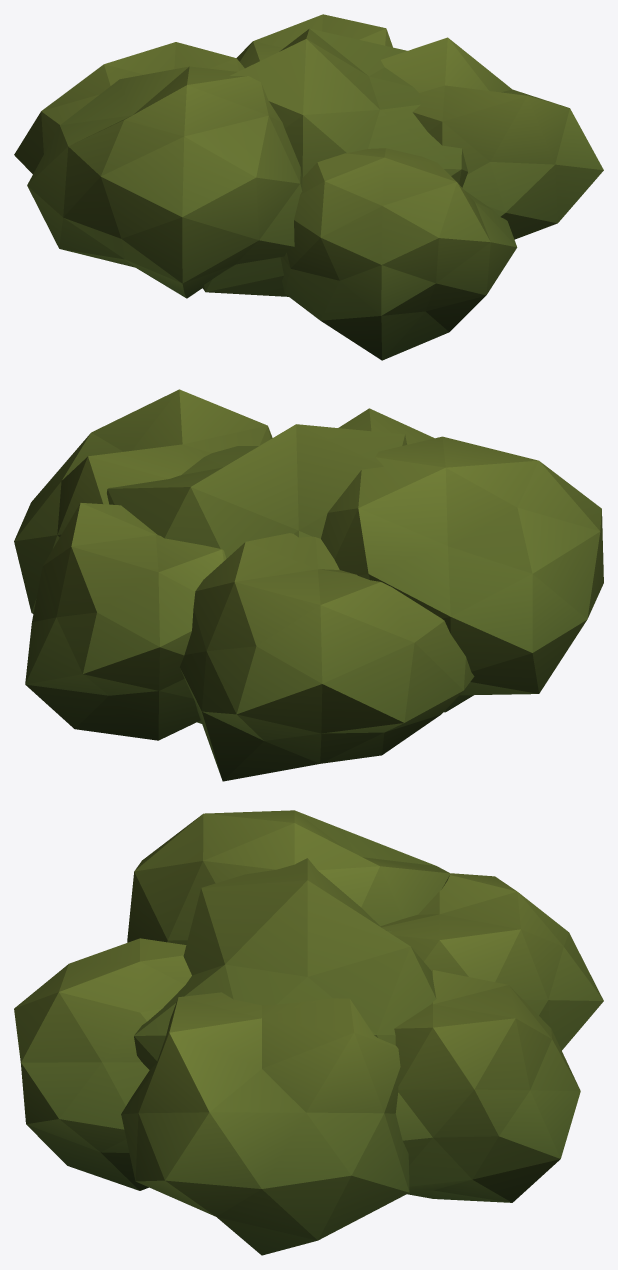
File: copa-tipica-a.glb
The picture shows the model from 3 angles, top to bottom: view 1: azimuth 30°, elevation 25°; view 2: azimuth 150°, elevation 25°; view 3: azimuth 270°, elevation 25°; orthographic projection. The views are drawn at different scales.
Visible parts, largest first — view 1: copa-tipica-a; view 2: copa-tipica-a; view 3: copa-tipica-a.
Boxes of the visible parts, x1,y1,x2,y2 form: copa-tipica-a: (14, 14, 603, 360); copa-tipica-a: (14, 389, 603, 781); copa-tipica-a: (14, 810, 603, 1255).
Size of the model in its own units: 5.26 by 2.63 by 4.64.
